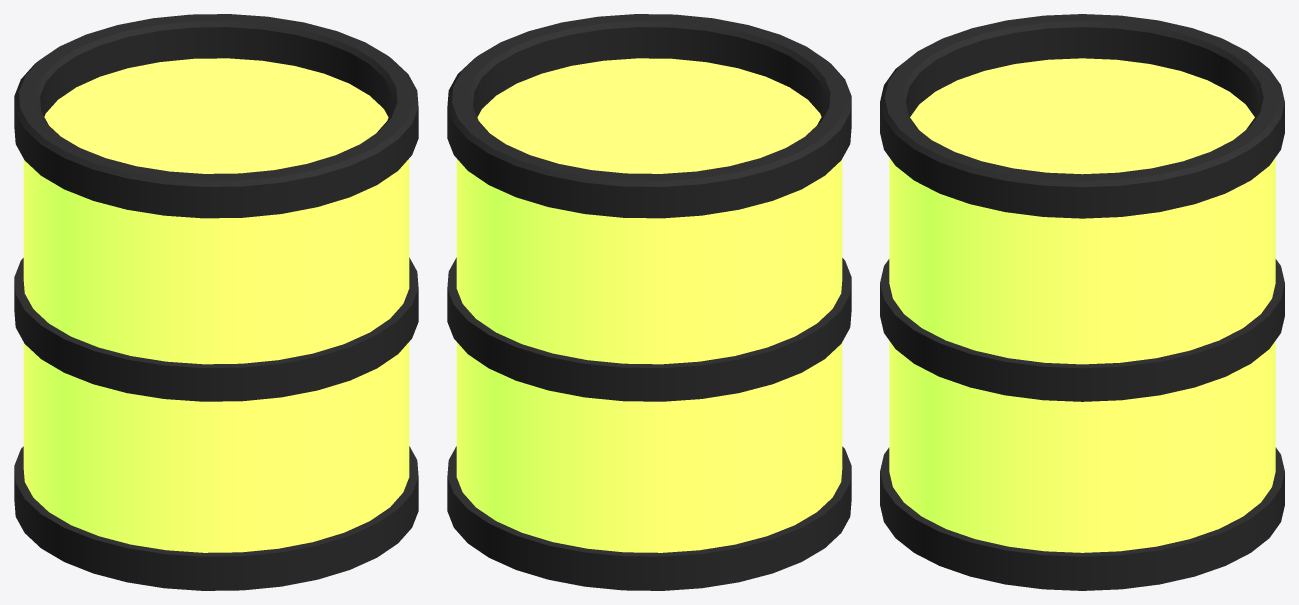
The model's file is tank.fbx.
3 views of the same model, side by side, from view 1: azimuth 30°, elevation 25°; view 2: azimuth 150°, elevation 25°; view 3: azimuth 270°, elevation 25° (orthographic).
Visible parts, largest first — view 1: Cylinder; view 2: Cylinder; view 3: Cylinder.
Boxes of the visible parts, x1,y1,x2,y2 form: Cylinder: (14, 14, 418, 590); Cylinder: (447, 14, 851, 590); Cylinder: (880, 14, 1284, 590).
Bounding box in the file's own units: 2.09 × 2.33 × 2.09.
